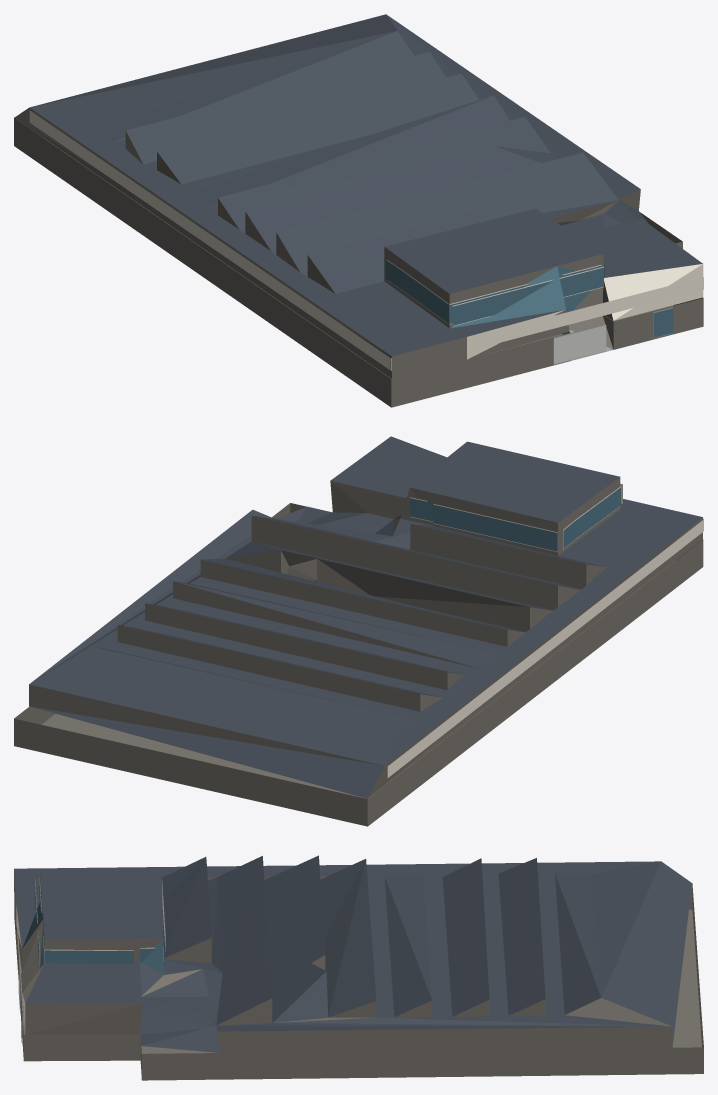
Rendered from beest-het-lab.lod2.glb.
3 renders of one model, top to bottom at view 1: azimuth 30°, elevation 25°; view 2: azimuth 150°, elevation 25°; view 3: azimuth 270°, elevation 25°, orthographic. The views are drawn at different scales.
Parts seen in each view (by area): view 1: lod2; view 2: lod2; view 3: lod2.
Part boxes in pixels (x1,y1,x2,y2): lod2: [14, 14, 703, 407]; lod2: [14, 436, 703, 826]; lod2: [14, 855, 703, 1080].
Size of the model in its own units: 43.17 by 9.42 by 73.17.
